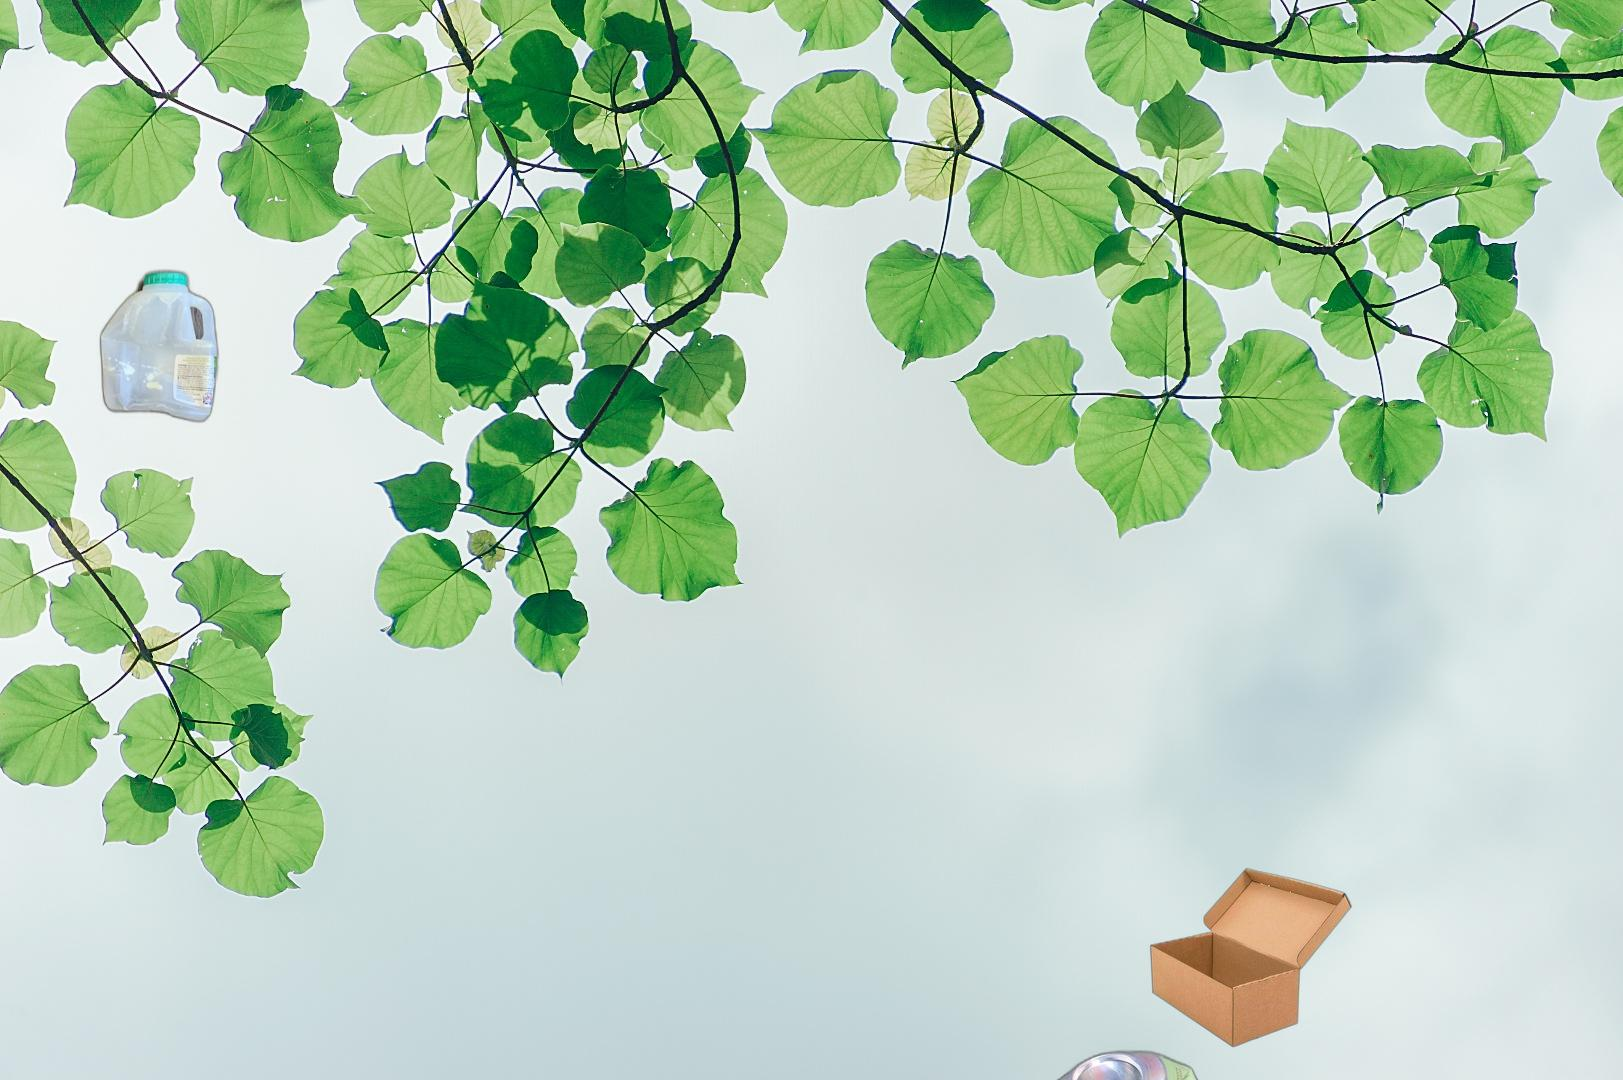metal-cans: (859, 1045, 1371, 1080)
plastic-bottles: (96, 265, 222, 428)
trashbox-cardboard: (1147, 865, 1354, 1050)
